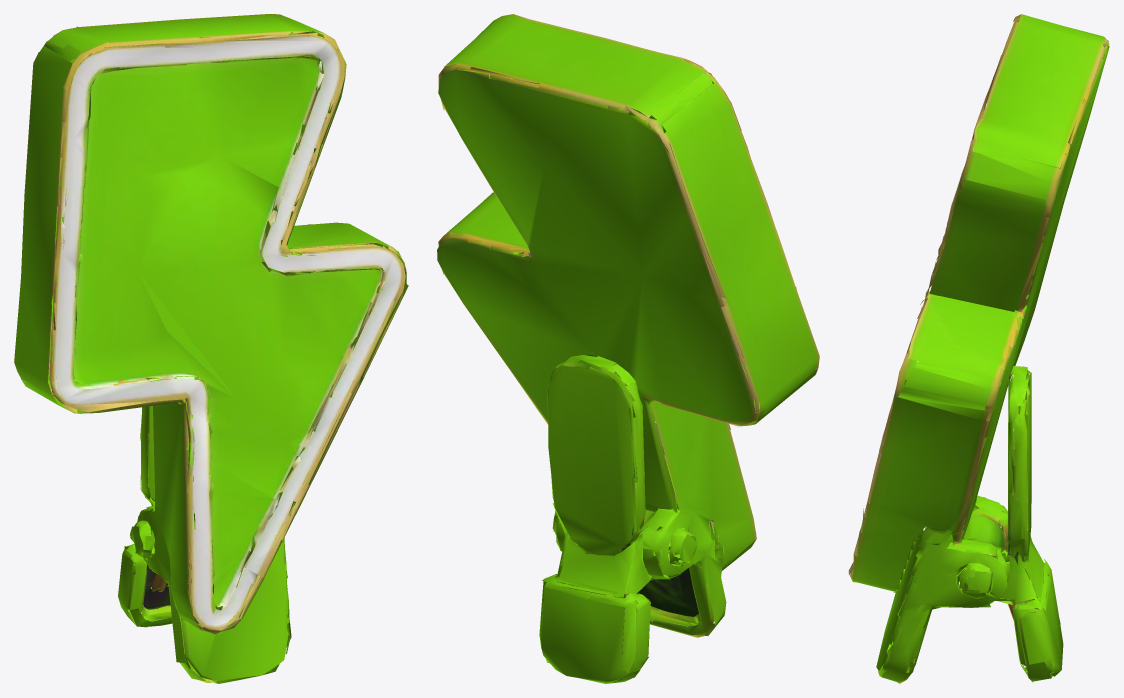
File: gear_power_hair.glb
3 views of the same model, side by side, from view 1: azimuth 30°, elevation 25°; view 2: azimuth 150°, elevation 25°; view 3: azimuth 270°, elevation 25° (orthographic). The views are drawn at different scales.
Parts seen in each view (by area): view 1: gear_power_hair; view 2: gear_power_hair; view 3: gear_power_hair.
Part boxes in pixels (box(x1,y1,x2,y2)): gear_power_hair: box(14, 14, 408, 683); gear_power_hair: box(437, 14, 819, 683); gear_power_hair: box(848, 14, 1109, 683).
Bounding box in the file's own units: 0.2971 × 0.5002 × 0.1929.
Materials: 1 (1 with a texture image).
